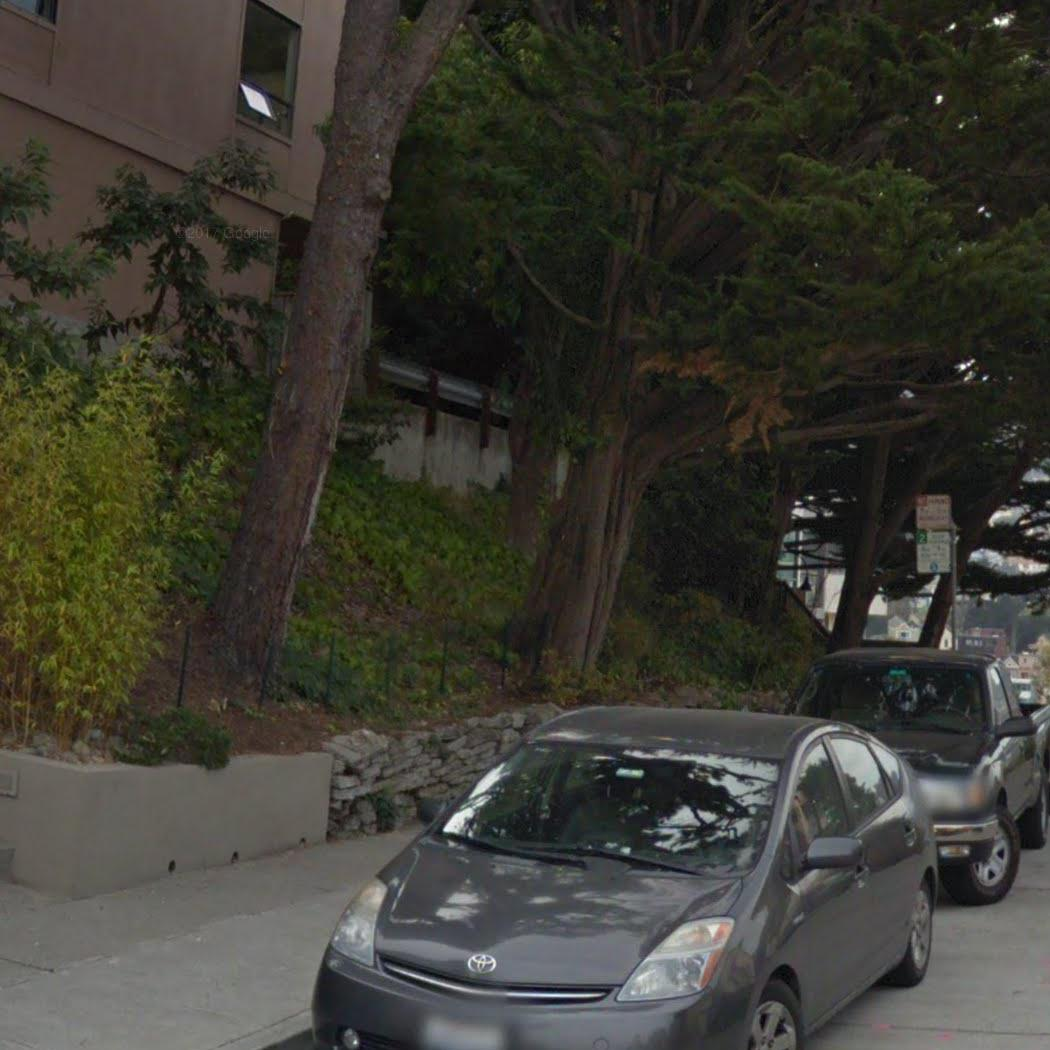2 Hour Parking: (912, 529, 955, 576)
No Parking: (913, 491, 954, 532)
